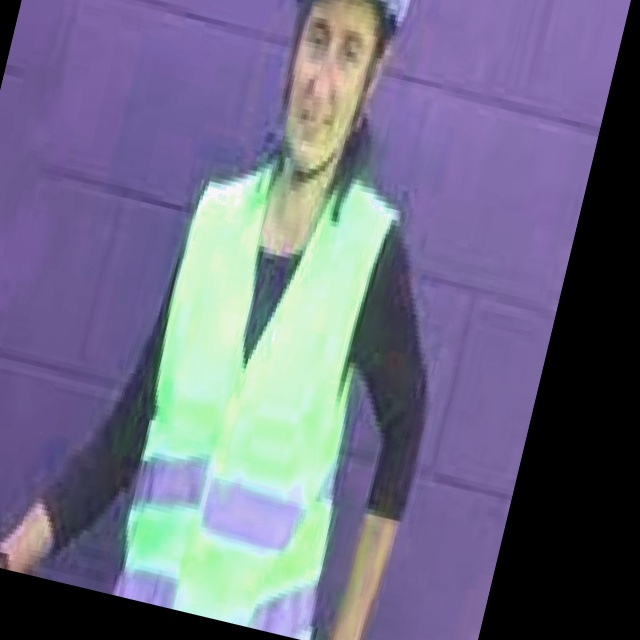Con_Chaleco: (111, 161, 406, 640)
